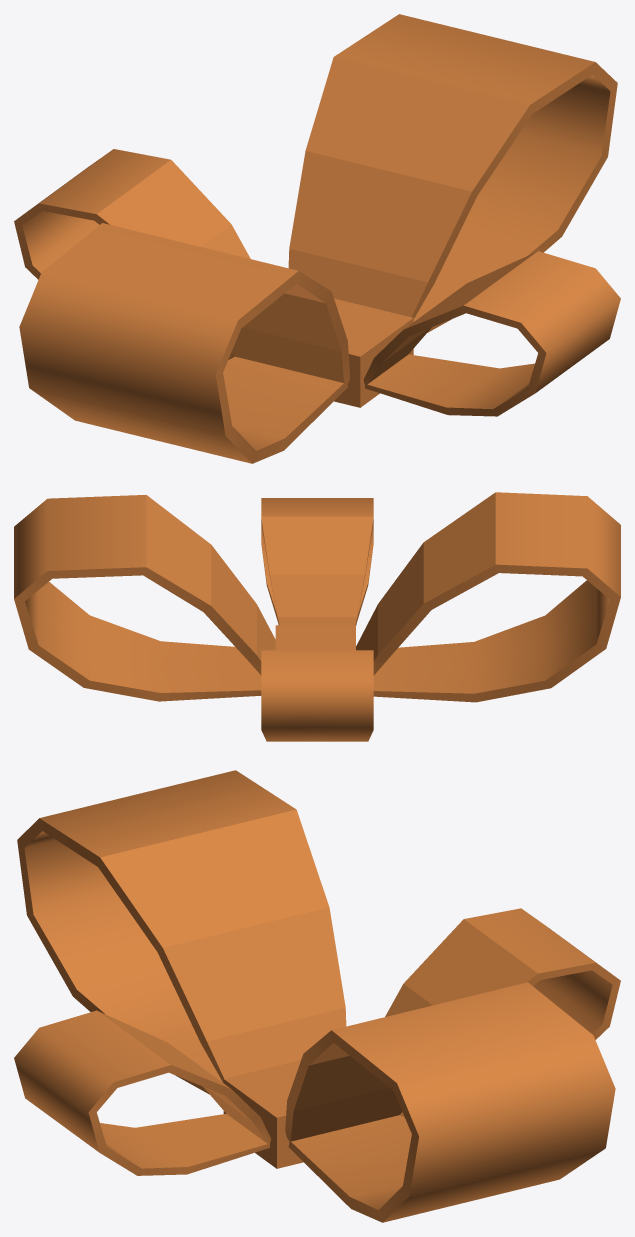
Rendered from M_Bow_05.FBX.
The picture shows the model from 3 angles, top to bottom: view 1: azimuth 30°, elevation 25°; view 2: azimuth 150°, elevation 25°; view 3: azimuth 270°, elevation 25°; orthographic projection. The views are drawn at different scales.
Visible parts, largest first — view 1: Box015; view 2: Box015; view 3: Box015.
Part boxes in pixels (x1,y1,x2,y2): Box015: (14, 14, 620, 463); Box015: (14, 492, 620, 741); Box015: (14, 770, 620, 1222).
Size of the model in its own units: 37.79 by 10.94 by 28.33.
1 material, 1 textured.
